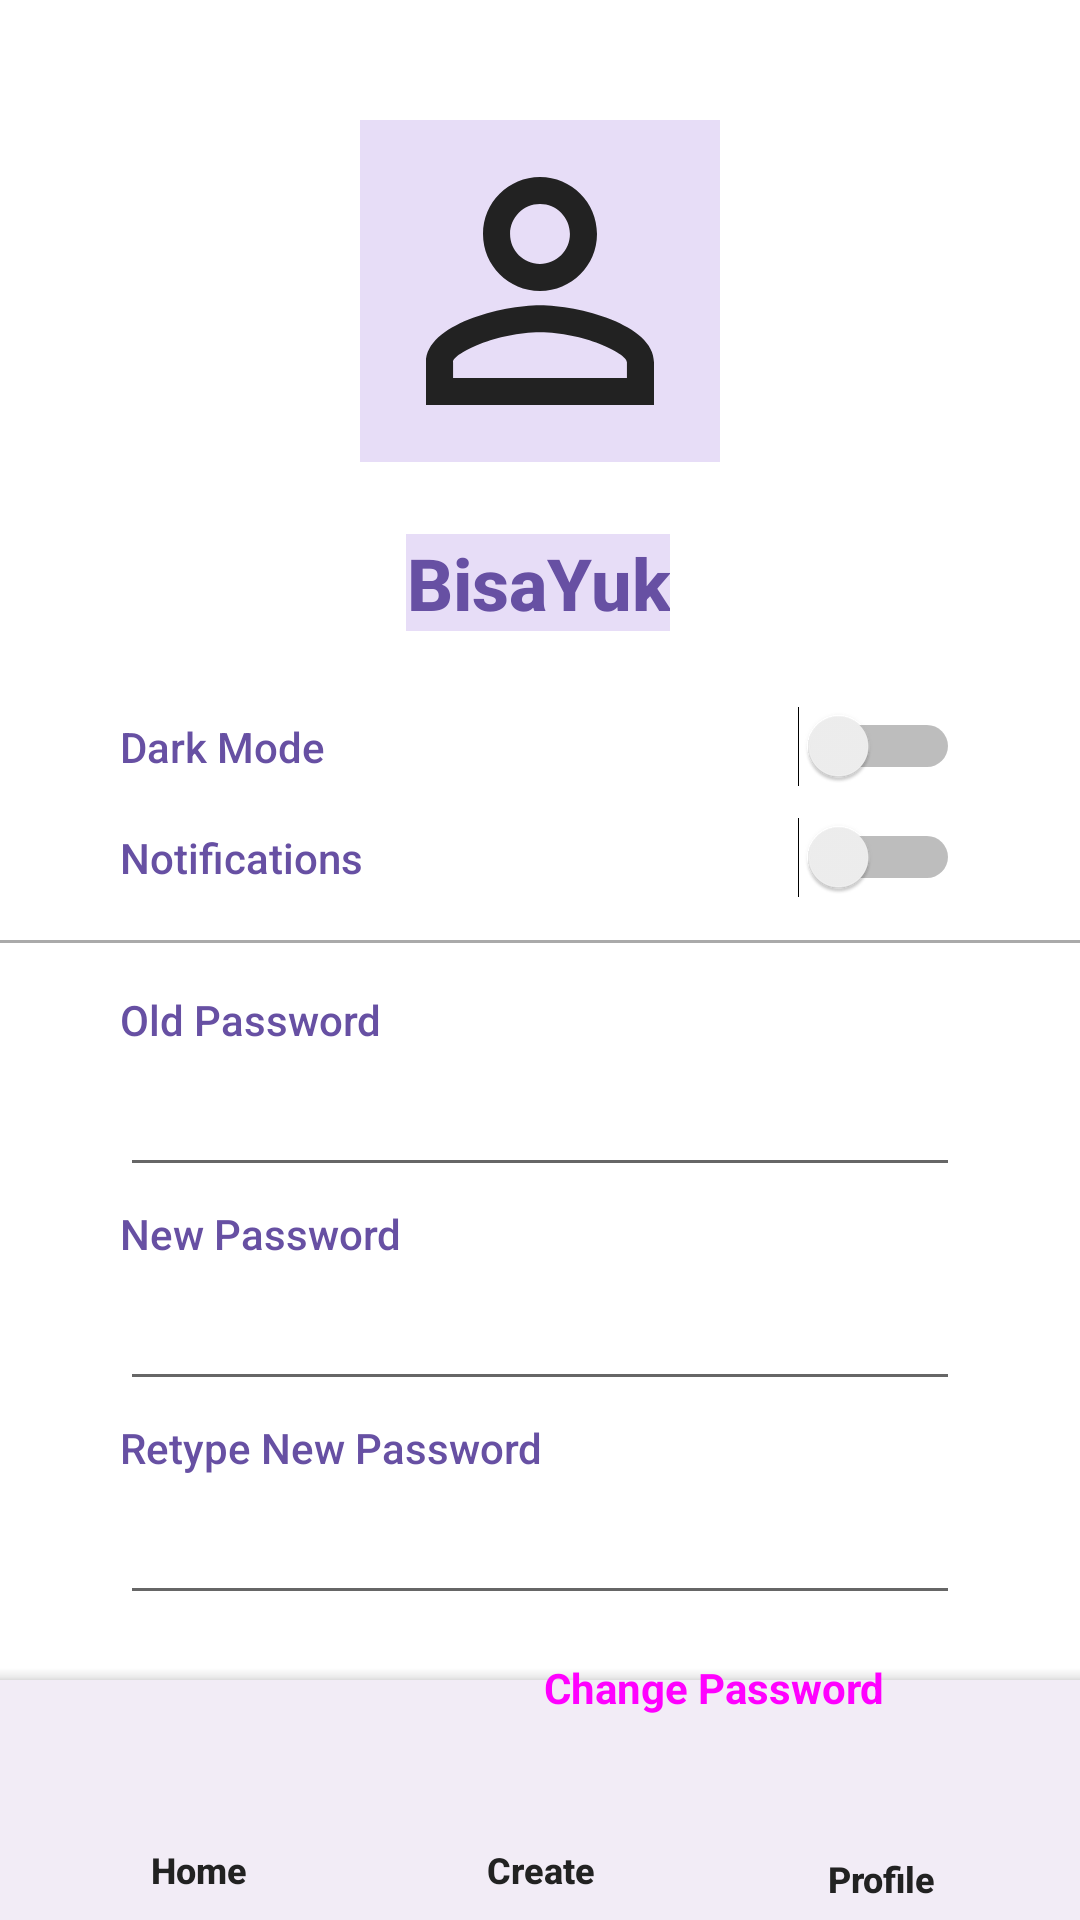

Locate icon controls on the screen. Image size 1080 x 1920, boxes as (x1, y1, x2, y2).
person: (360, 120, 720, 462)
